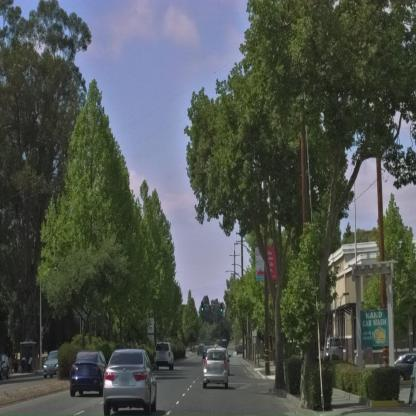car: (103, 347, 160, 415), (69, 352, 106, 397), (202, 349, 229, 389), (394, 354, 416, 380), (155, 343, 175, 370), (42, 352, 57, 378)
